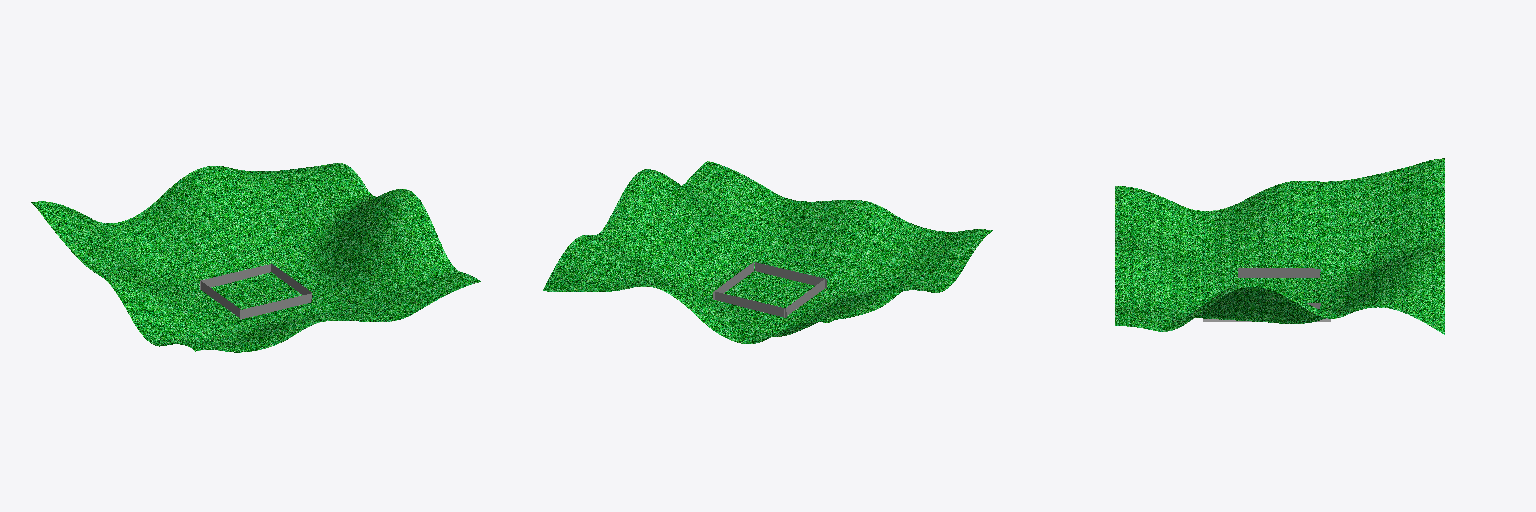
3 renders of one model, left to right at view 1: azimuth 30°, elevation 25°; view 2: azimuth 150°, elevation 25°; view 3: azimuth 270°, elevation 25°, orthographic.
Visible parts, largest first — view 1: Plane, Plane.002_Plane.004, Plane.003_Plane.005; view 2: Plane, Plane.003_Plane.005, Plane.002_Plane.004; view 3: Plane, Plane.004_Plane.006.
Part boxes in pixels (x1,y1,x2,y2): Plane: (31, 163, 480, 352); Plane.002_Plane.004: (240, 293, 311, 319); Plane.003_Plane.005: (200, 264, 270, 289); Plane: (543, 161, 992, 343); Plane.003_Plane.005: (715, 292, 786, 317); Plane.002_Plane.004: (755, 262, 826, 288); Plane: (1115, 158, 1444, 334); Plane.004_Plane.006: (1238, 268, 1320, 277).
Bounding box in the file's own units: 162 × 42.47 × 162.
2 materials, 1 textured.